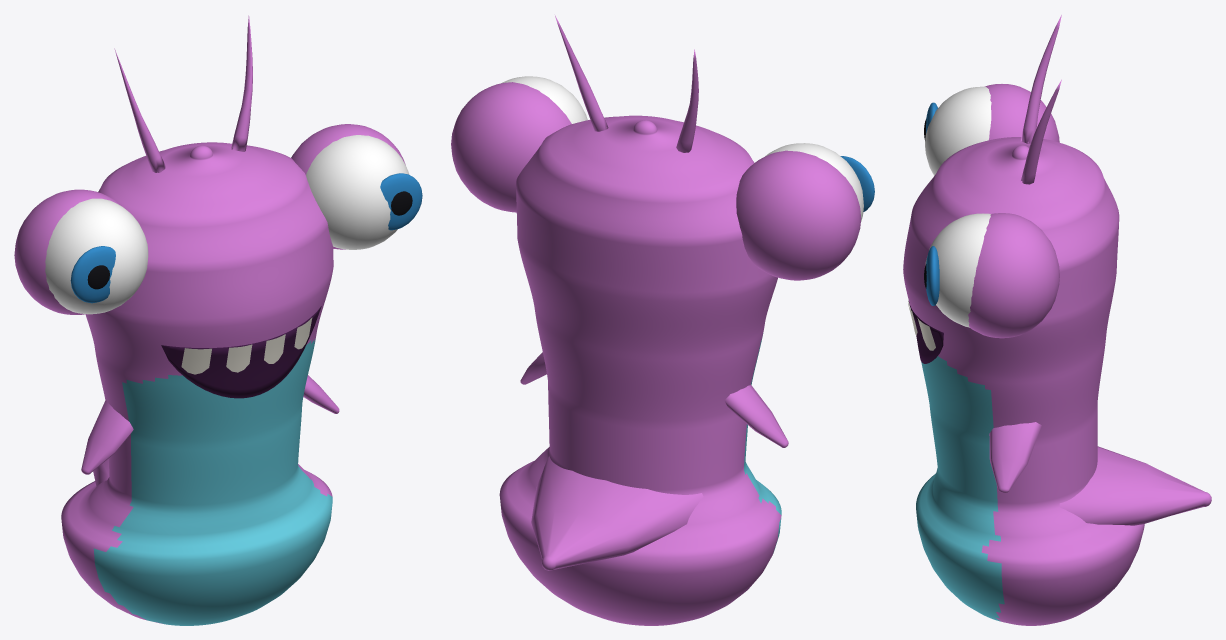
File: bubbaleone.fbx
The picture shows the model from 3 angles, left to right: view 1: azimuth 30°, elevation 25°; view 2: azimuth 150°, elevation 25°; view 3: azimuth 270°, elevation 25°; orthographic projection. The views are drawn at different scales.
Visible parts, largest first — view 1: Slug_bubbaleone; view 2: Slug_bubbaleone; view 3: Slug_bubbaleone.
Boxes of the visible parts, x1,y1,x2,y2 form: Slug_bubbaleone: (14, 15, 422, 625); Slug_bubbaleone: (451, 15, 874, 625); Slug_bubbaleone: (903, 15, 1211, 625).
Size of the model in its own units: 0.56 by 0.8045 by 0.399.
